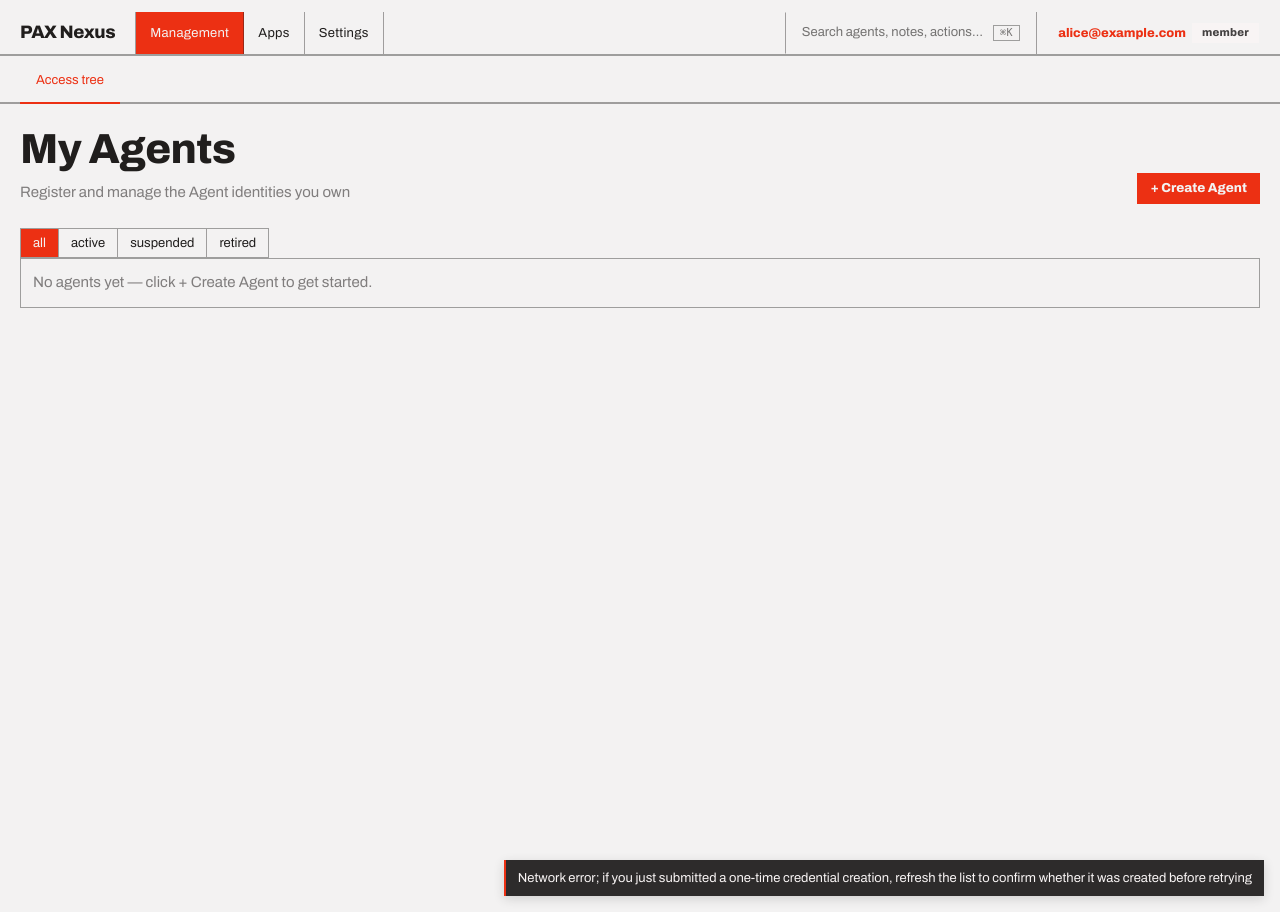
Test: Todo app portal integration › still renders the personal list when the suggestions endpoint fails
Click the link "Apps" at (274,33), box [244,12,305,54]
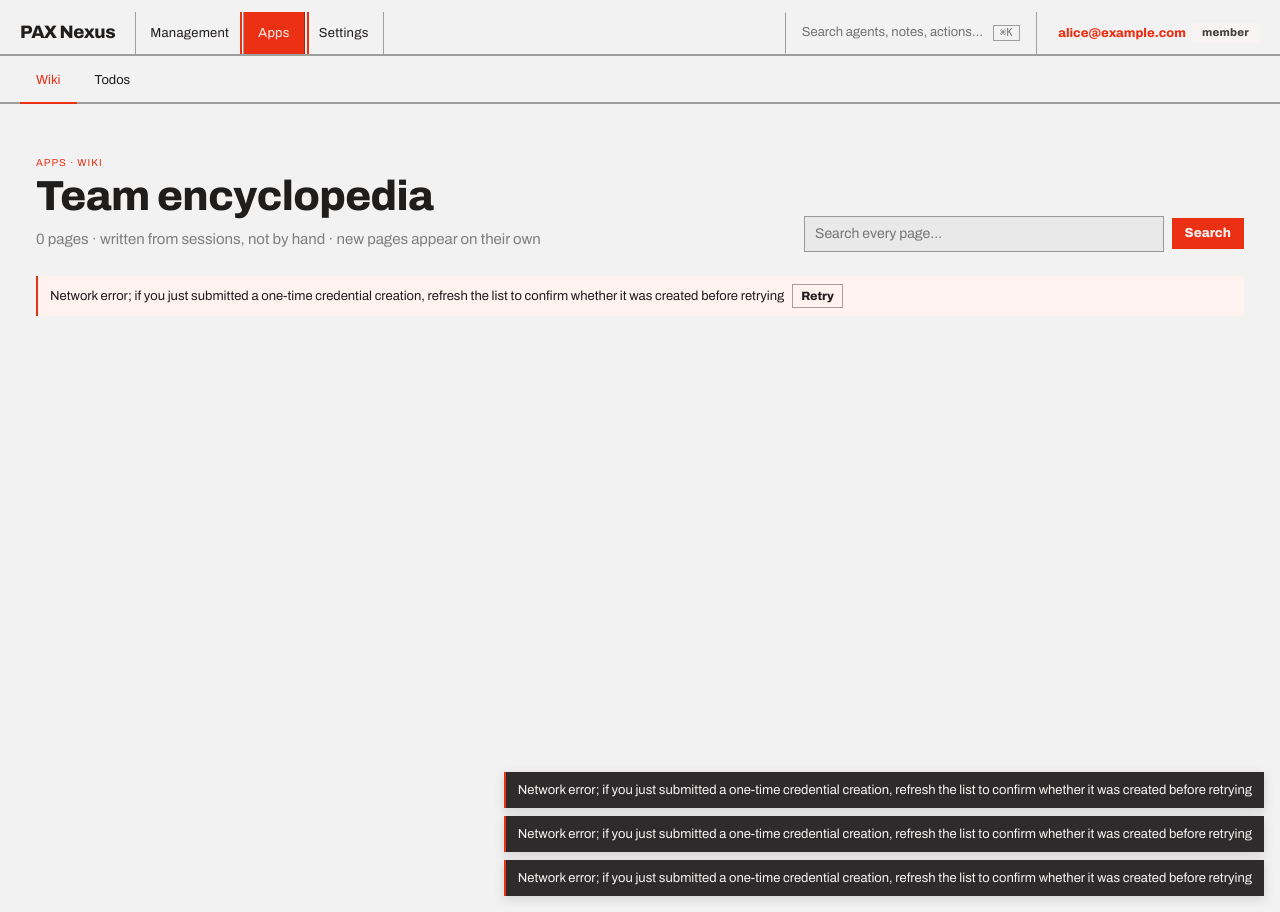
Click the link "Todos" at (112,80), box [94,73,130,87]
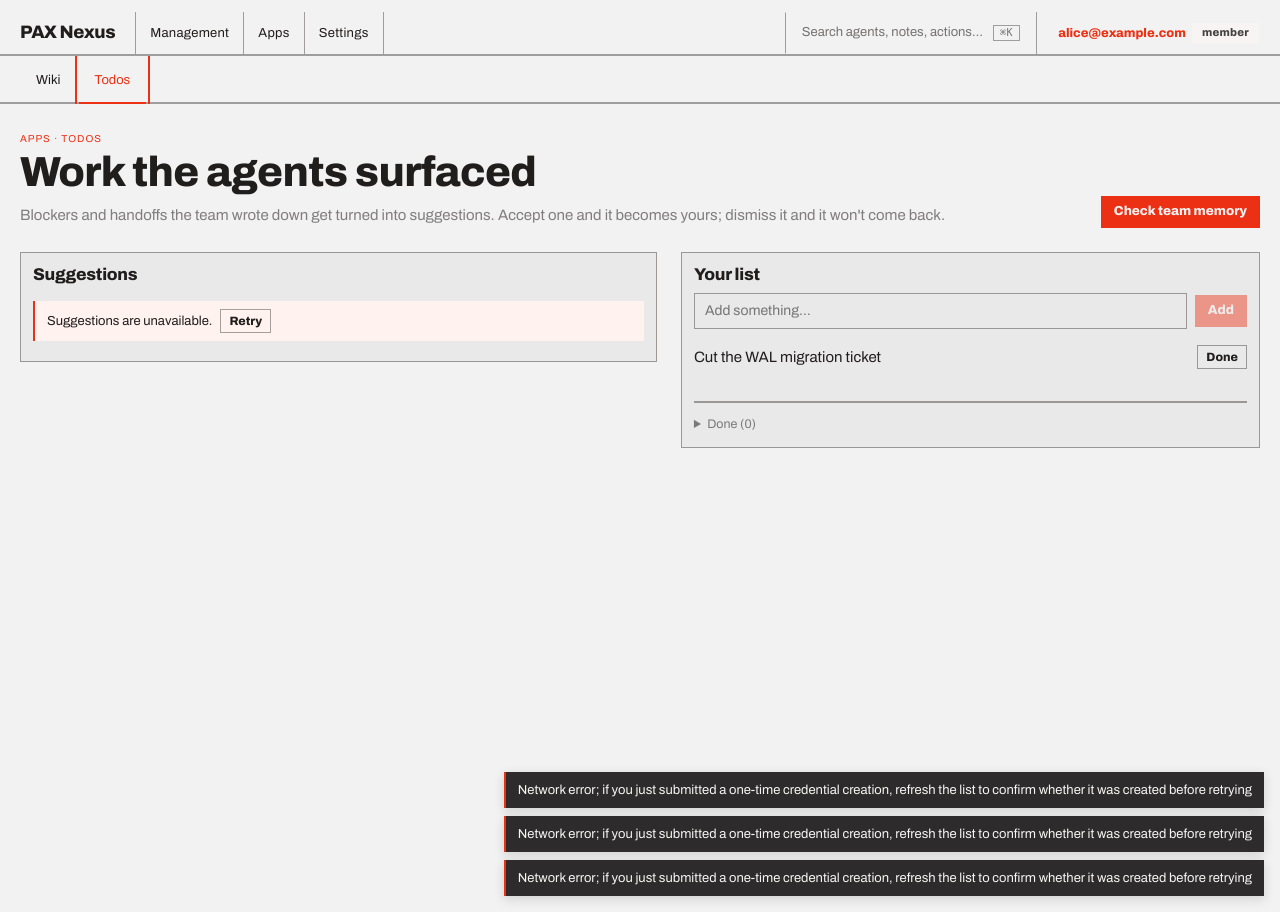
Expected: the heading "Work the agents surfaced" is shown, [20,149,536,195]
Expected: the text "Suggestions are unavailable." is shown, [47,311,212,331]
Expected: the text "Cut the WAL migration ticket" is shown, [694,346,881,369]
Click the button "Retry" at (246,321), box [220,309,271,334]
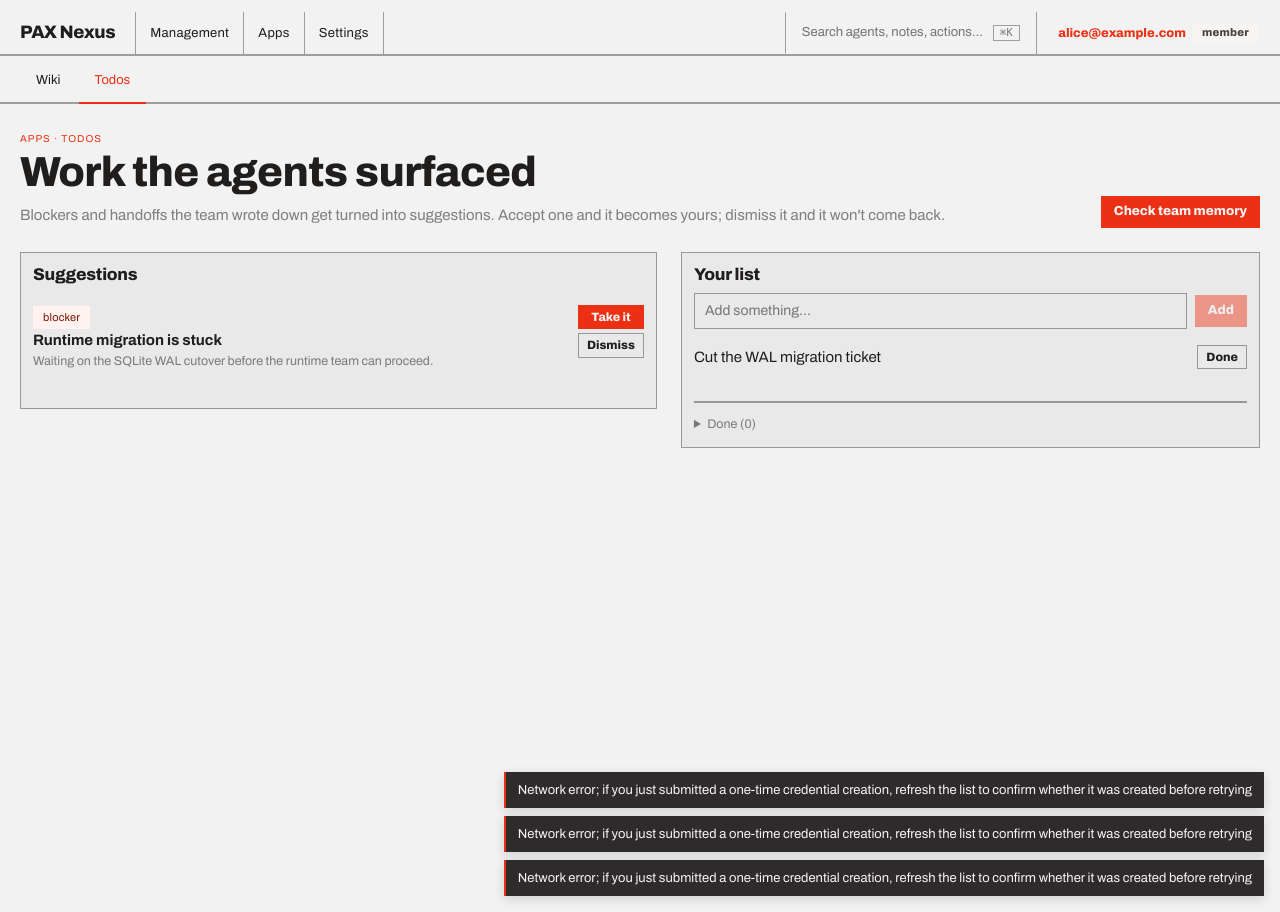
Expected: the text "Suggestions are unavailable." is gone
Expected: the text "Runtime migration is stuck" is shown, [33,332,222,348]
